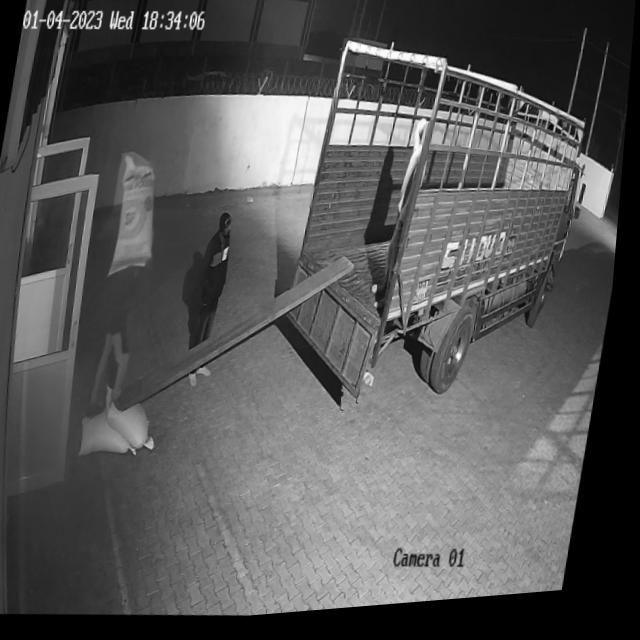sack: (111, 155, 172, 281), (102, 381, 172, 457), (85, 410, 150, 463)
